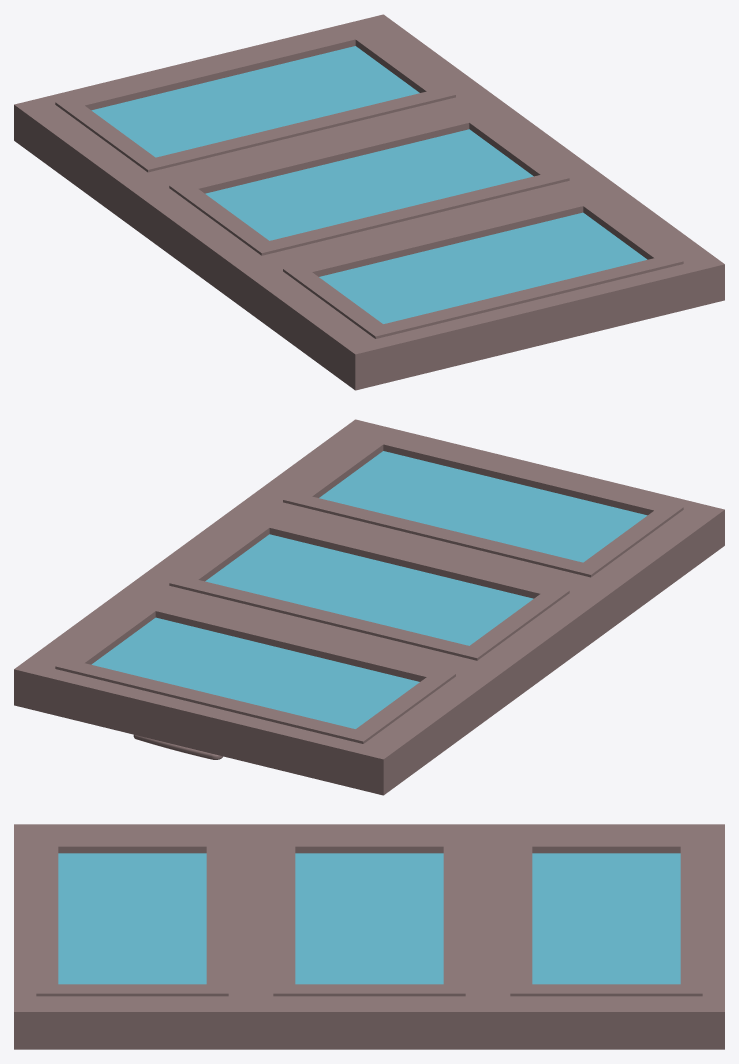
The model's file is 38 Series Awning.fbx.
The picture shows the model from 3 angles, top to bottom: view 1: azimuth 30°, elevation 25°; view 2: azimuth 150°, elevation 25°; view 3: azimuth 270°, elevation 25°; orthographic projection. The views are drawn at different scales.
Visible parts, largest first — view 1: Body39, Body8, Body16, Body3, Body13, Body36, Body9, Body1, Body32; view 2: Body16, Body8, Body39, Body3, Body13, Body36, Body32, Body1, Body9; view 3: Body8, Body16, Body39, Body3, Body13, Body36, Body1, Body9, Body32.
Boxes of the visible parts, bbox=[...] form: Body39: bbox=[241, 181, 724, 390]; Body8: bbox=[127, 97, 610, 306]; Body16: bbox=[14, 14, 496, 223]; Body3: bbox=[205, 129, 533, 240]; Body13: bbox=[91, 46, 419, 157]; Body36: bbox=[319, 212, 647, 323]; Body9: bbox=[55, 27, 455, 172]; Body1: bbox=[169, 110, 569, 255]; Body32: bbox=[283, 194, 683, 338]; Body16: bbox=[14, 586, 497, 795]; Body8: bbox=[128, 502, 611, 711]; Body39: bbox=[242, 419, 724, 628]; Body3: bbox=[205, 534, 533, 645]; Body13: bbox=[91, 617, 419, 728]; Body36: bbox=[319, 451, 647, 562]; Body32: bbox=[283, 432, 683, 577]; Body1: bbox=[169, 515, 569, 660]; Body9: bbox=[55, 599, 455, 743]; Body8: bbox=[251, 824, 487, 1049]; Body16: bbox=[488, 824, 724, 1049]; Body39: bbox=[14, 824, 250, 1049]; Body3: bbox=[295, 853, 443, 984]; Body13: bbox=[532, 853, 680, 984]; Body36: bbox=[58, 853, 206, 984]; Body1: bbox=[273, 837, 465, 996]; Body9: bbox=[510, 837, 702, 996]; Body32: bbox=[36, 837, 228, 996].
Size of the model in its own units: 30 by 4.5 by 48.
